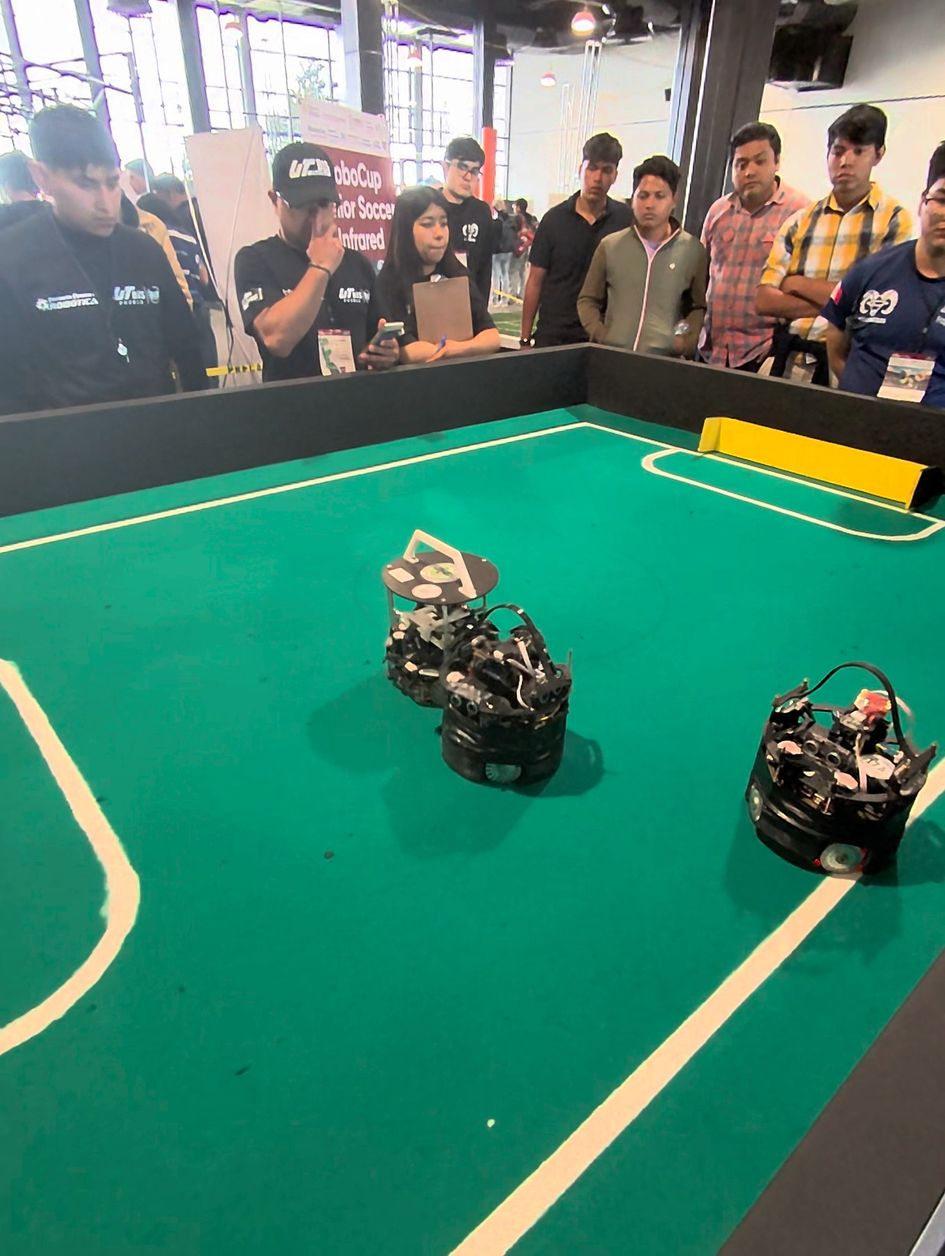Robot: (749, 646, 938, 888), (439, 595, 577, 809), (377, 514, 517, 710)
